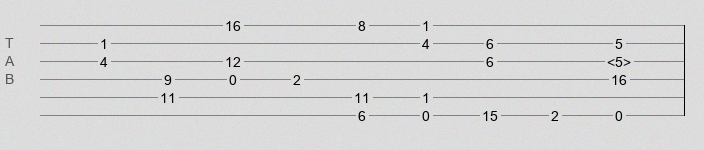0: (229, 72, 237, 82), (422, 108, 430, 118), (615, 108, 623, 118)
1: (100, 36, 108, 46), (422, 90, 430, 100), (422, 18, 430, 28)
11: (160, 90, 176, 100), (354, 90, 370, 100)
12: (225, 54, 241, 64)
15: (482, 108, 498, 118)
16: (225, 18, 241, 28), (611, 72, 627, 82)
2: (293, 72, 301, 82), (551, 108, 559, 118)
4: (100, 54, 108, 64), (422, 36, 430, 46)
5: (615, 36, 623, 46)
6: (358, 108, 366, 118), (486, 54, 494, 64), (486, 36, 494, 46)
8: (358, 18, 366, 28)
9: (164, 72, 172, 82)
harmonic: (607, 54, 631, 64)
